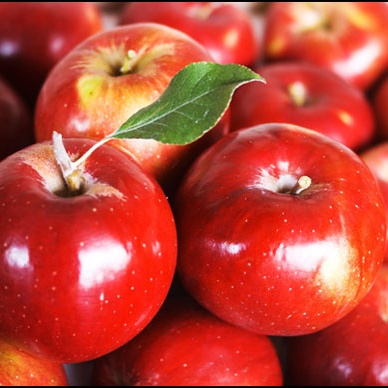apple: (173, 123, 373, 337), (1, 135, 180, 366), (32, 26, 234, 176), (222, 60, 380, 152), (96, 313, 287, 388), (261, 1, 387, 93), (123, 1, 260, 67), (1, 2, 111, 82), (1, 338, 71, 386)
